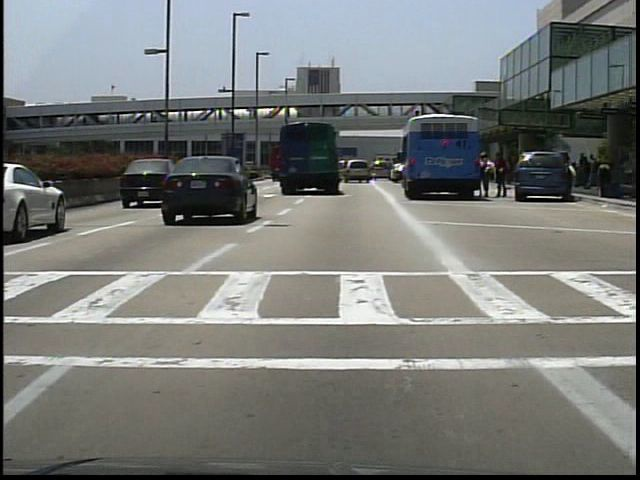person: (477, 153, 493, 197), (495, 155, 510, 200), (566, 161, 579, 201)
